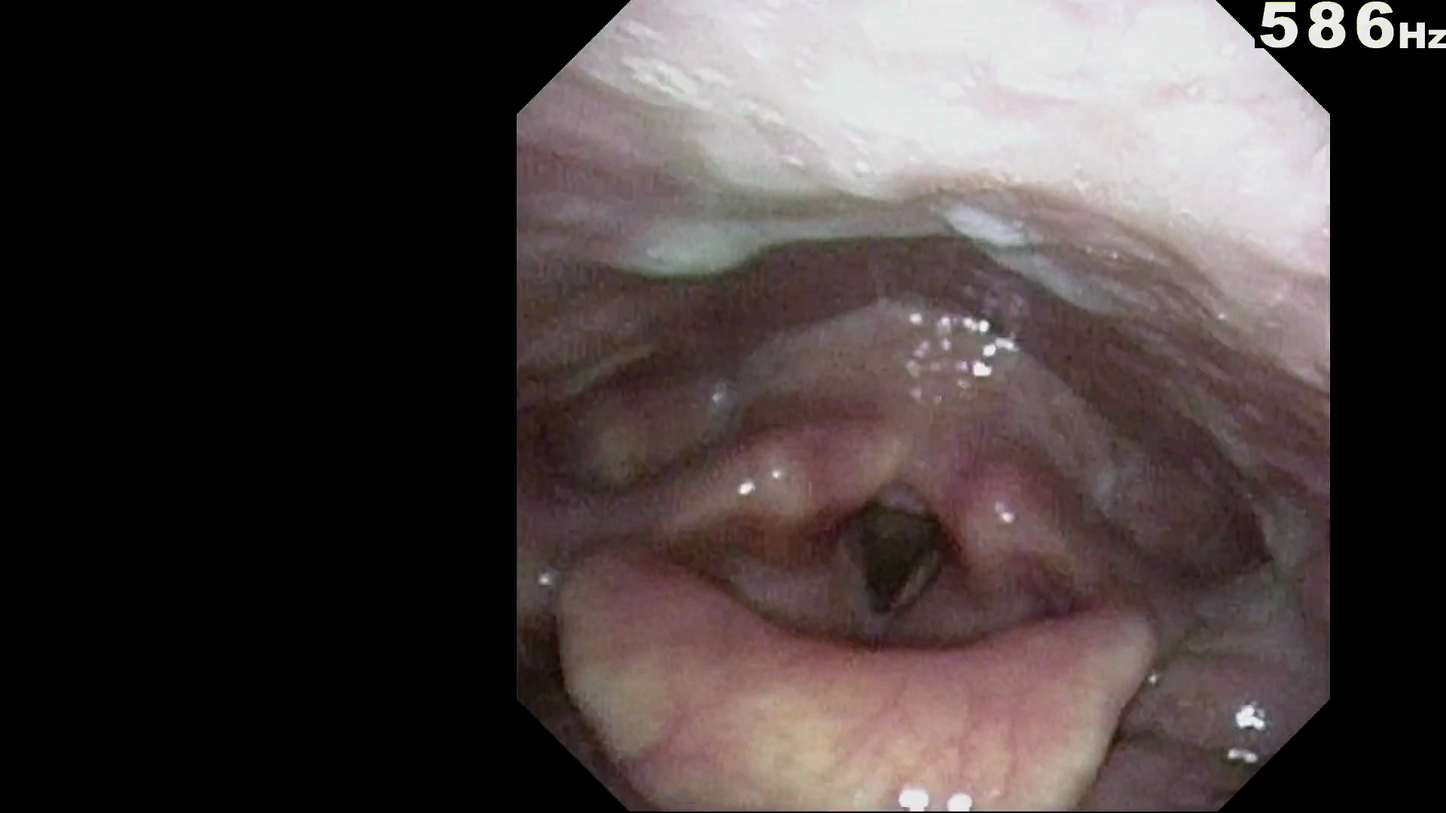epiglottis: (608, 620, 1174, 770)
trachea: (845, 491, 970, 628)
